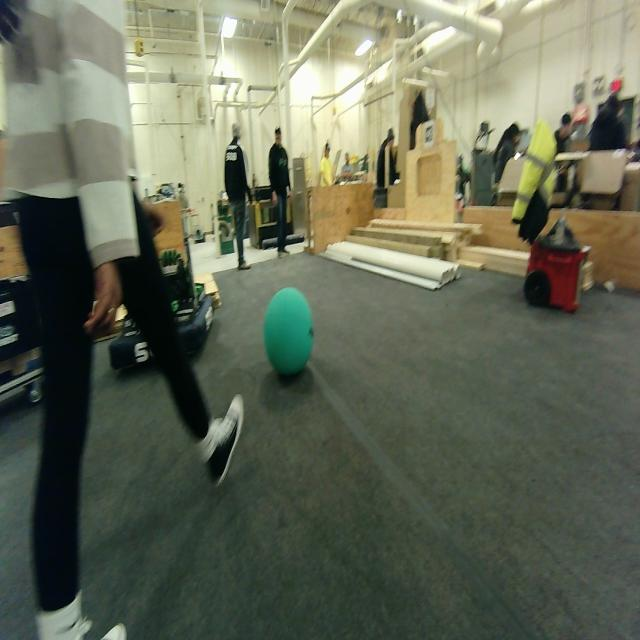algae: (258, 282, 318, 383)
